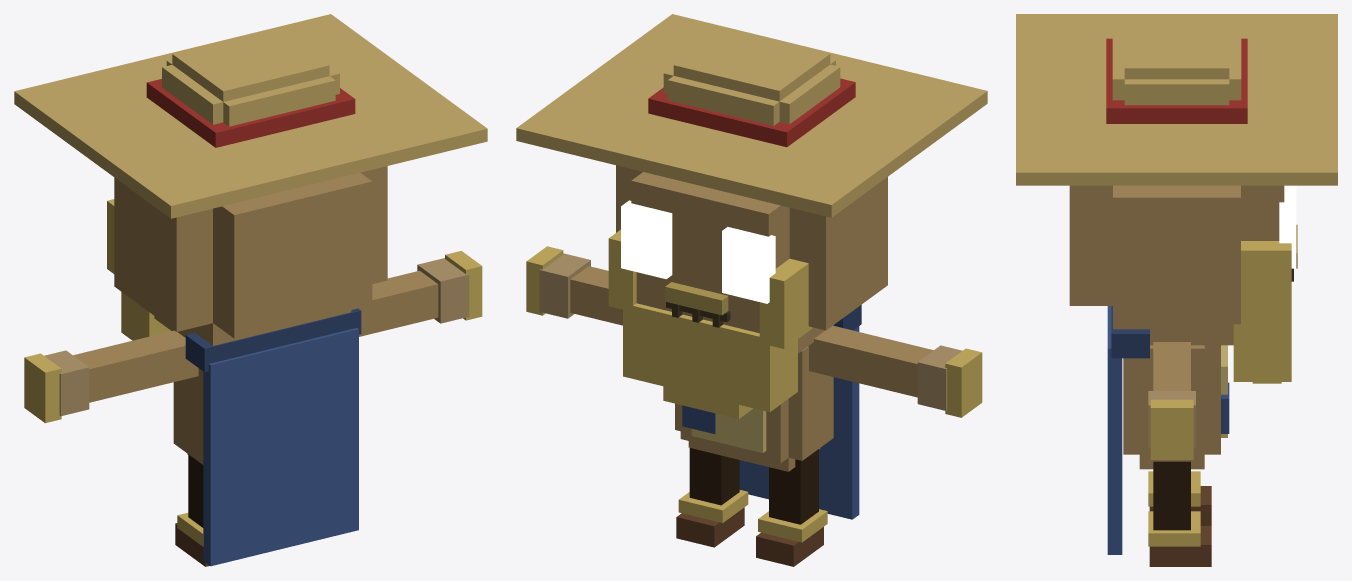
The model's file is CornhuskScarecrow.glb.
3 views of the same model, side by side, from view 1: azimuth 30°, elevation 25°; view 2: azimuth 150°, elevation 25°; view 3: azimuth 270°, elevation 25° (orthographic). The views are drawn at different scales.
Visible parts, largest first — view 1: Voxel; view 2: Voxel; view 3: Voxel.
Boxes of the visible parts, <box> form: Voxel: <box>14,14,487,566</box>; Voxel: <box>516,14,987,566</box>; Voxel: <box>1016,14,1337,566</box>.
Bounding box in the file's own units: 4.28 × 4.52 × 2.66.
